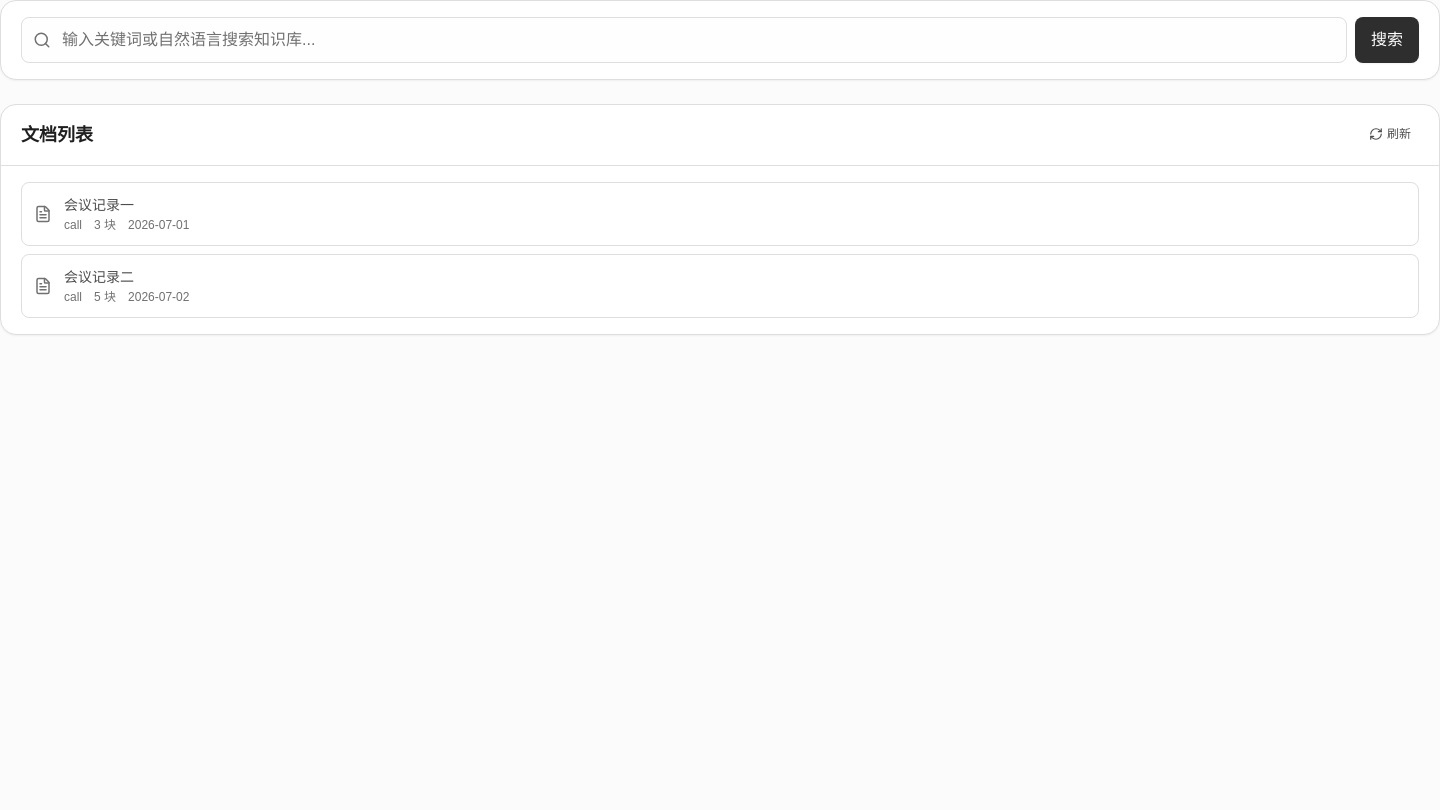
Scenario: KnowledgeLibrary — 搜索 › 搜索结果为空 → 显示无结果
Expected: the text "会议记录一" is shown, [64, 197, 134, 213]
Type "不存在" into the field with placeholder "输入关键词或自然语言搜索知识库..." at (684, 40), box [21, 17, 1347, 63]
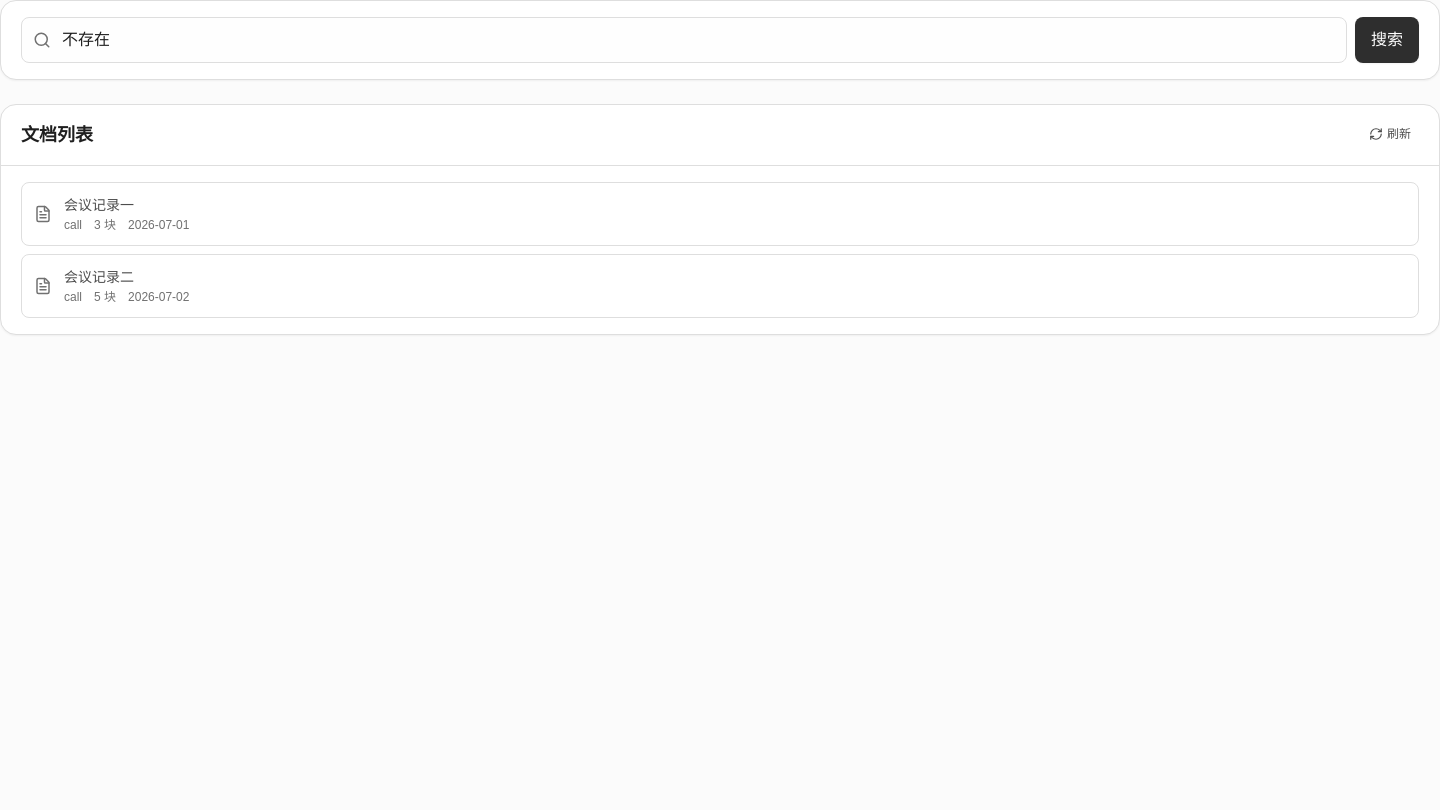
Click the button "搜索" at (1387, 40), box [1355, 17, 1419, 63]
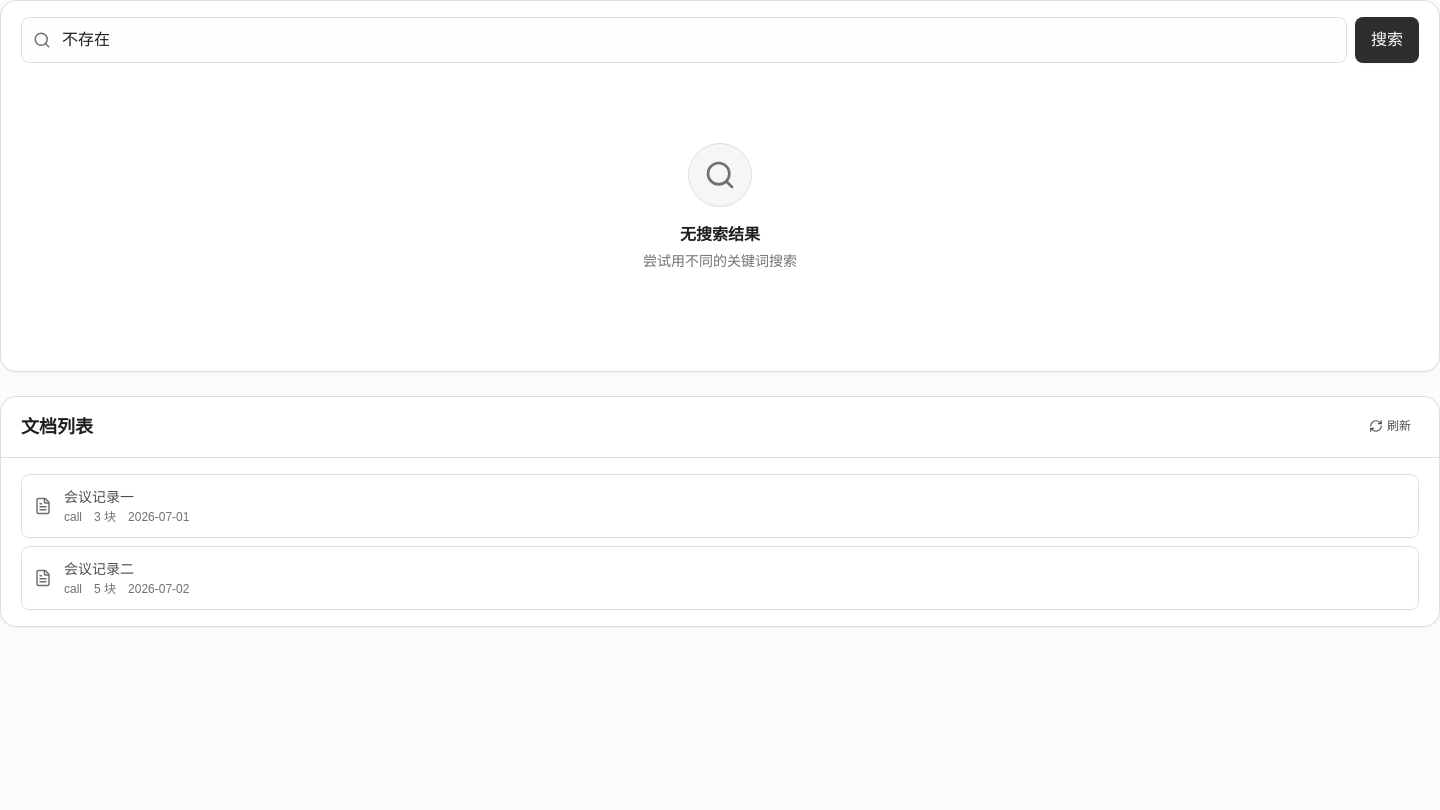
Now the heading "无搜索结果" is shown, box [680, 223, 760, 247]
